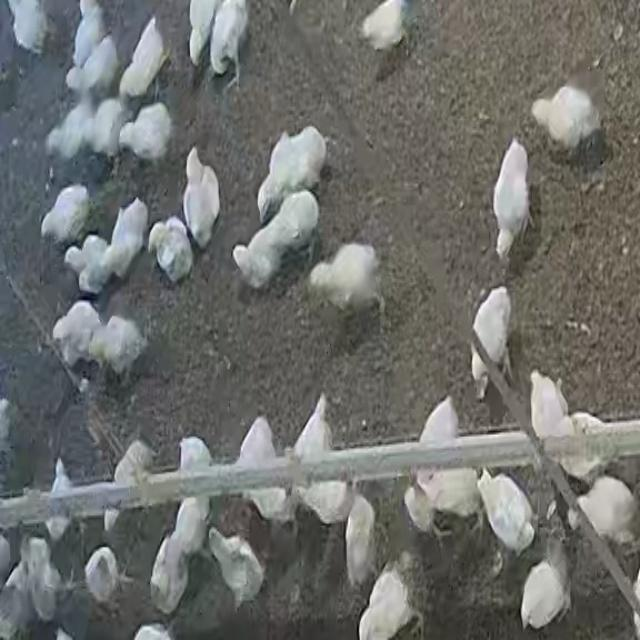chicken: (255, 126, 329, 212), (233, 417, 285, 525), (491, 134, 533, 264), (312, 237, 380, 315), (476, 469, 535, 557), (531, 84, 600, 156), (470, 288, 514, 399), (358, 564, 418, 640), (210, 530, 266, 610), (574, 475, 636, 547), (119, 15, 168, 102), (519, 552, 569, 632), (104, 197, 150, 282), (111, 439, 154, 529), (530, 368, 576, 451), (409, 396, 462, 465), (52, 301, 102, 373), (90, 314, 146, 378), (64, 34, 121, 96), (119, 101, 174, 164), (45, 101, 97, 166), (420, 459, 476, 519), (185, 156, 221, 249), (40, 184, 92, 246), (209, 0, 249, 79), (265, 193, 320, 250), (149, 534, 186, 616), (229, 226, 278, 286), (300, 472, 354, 526), (150, 217, 193, 284), (66, 235, 110, 295), (360, 0, 409, 52), (47, 458, 77, 542), (296, 393, 334, 459), (34, 539, 65, 619), (71, 1, 108, 68), (88, 96, 126, 159), (187, 0, 223, 66), (6, 0, 50, 54), (2, 568, 36, 636), (181, 436, 216, 502), (174, 487, 207, 555), (84, 545, 120, 604), (536, 529, 568, 593), (257, 173, 282, 224), (470, 348, 492, 401), (186, 145, 205, 184)
